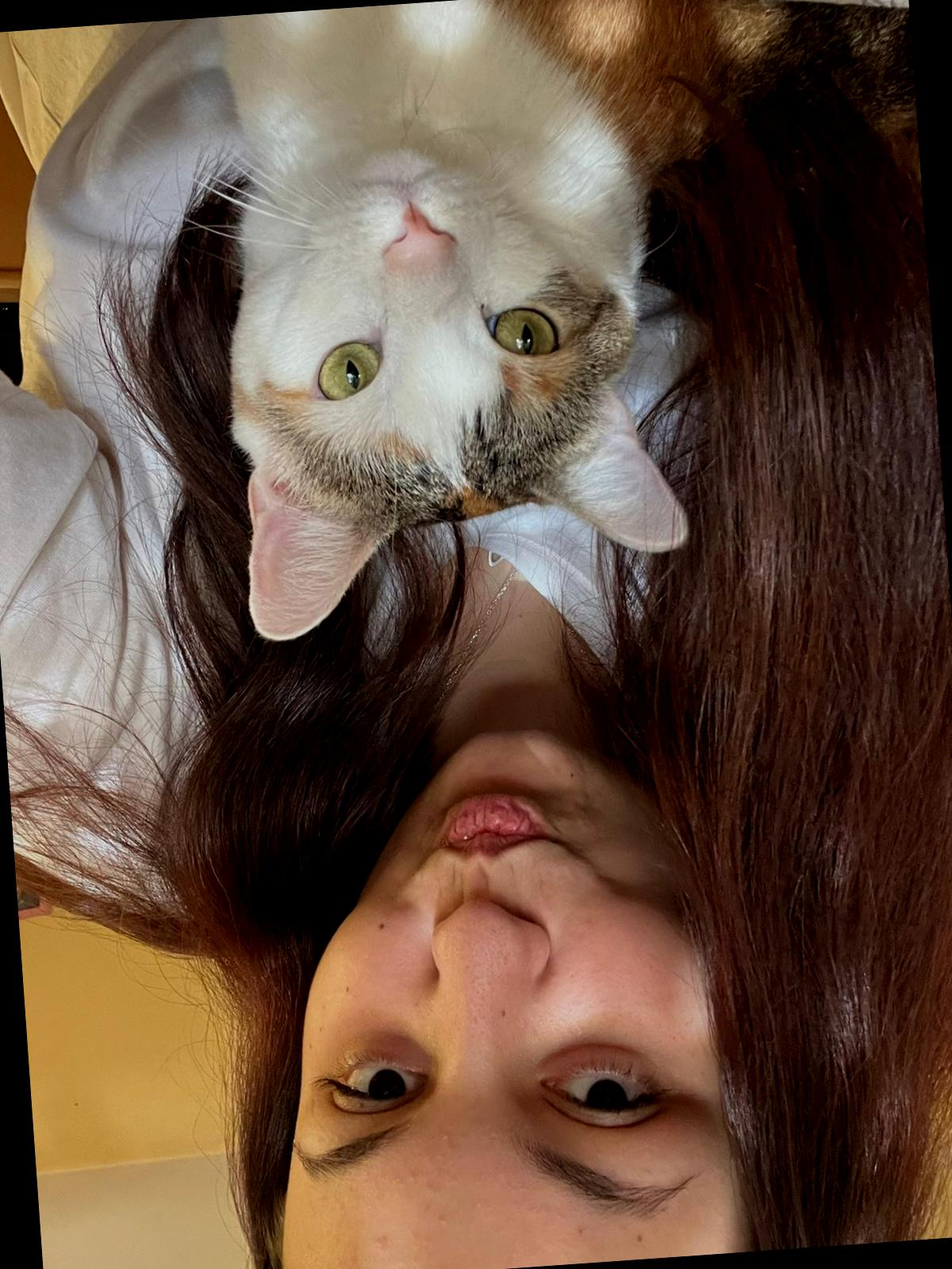macka: (202, 0, 701, 643)
